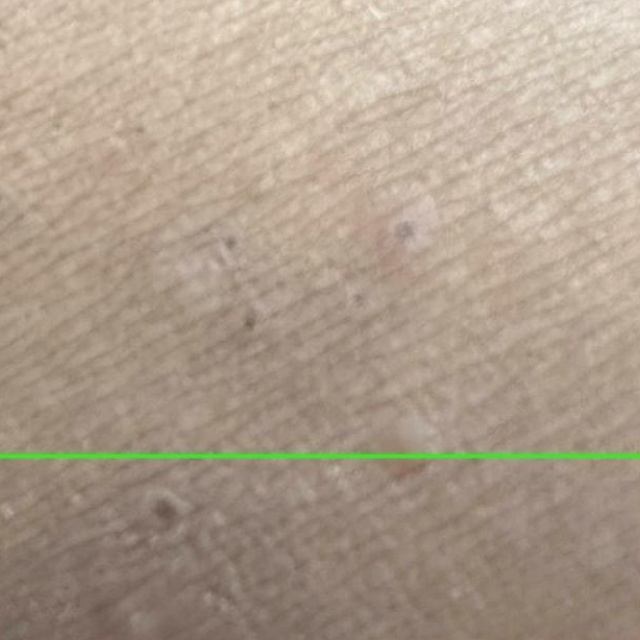Scabies: (0, 456, 639, 639)
